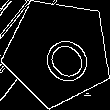O_NW: (25, 19, 91, 85)
